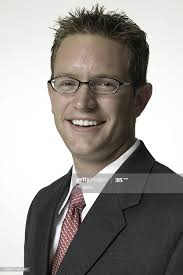Glasses: (42, 72, 133, 100)
